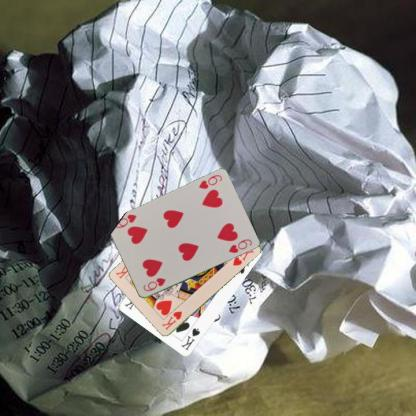6h: (196, 172, 223, 191), (140, 276, 167, 293)
Kh: (159, 309, 183, 332)
Ks: (179, 326, 201, 352)
